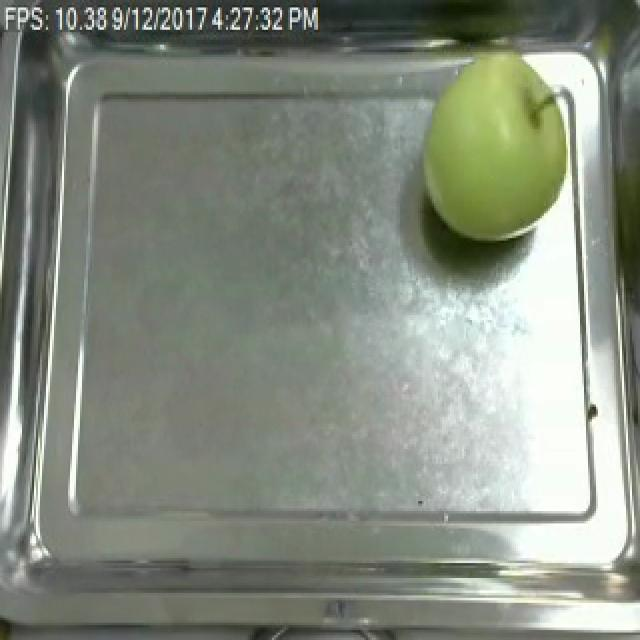50-_ripeness: (416, 36, 573, 260)
